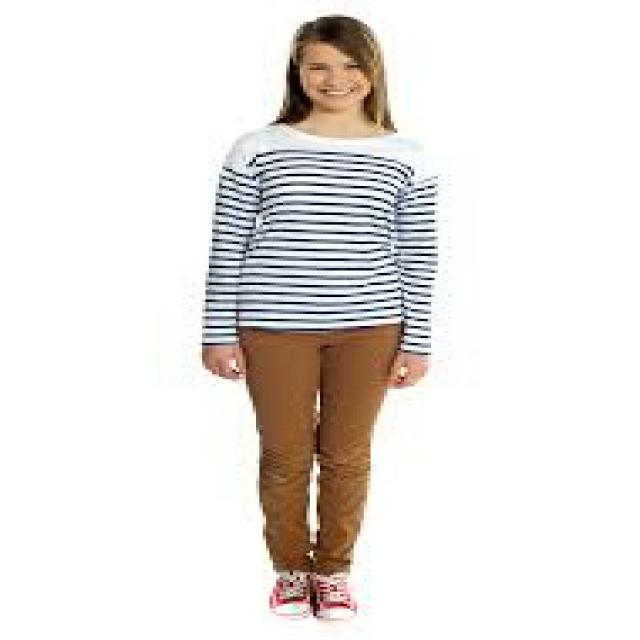adult: (172, 0, 485, 640)
